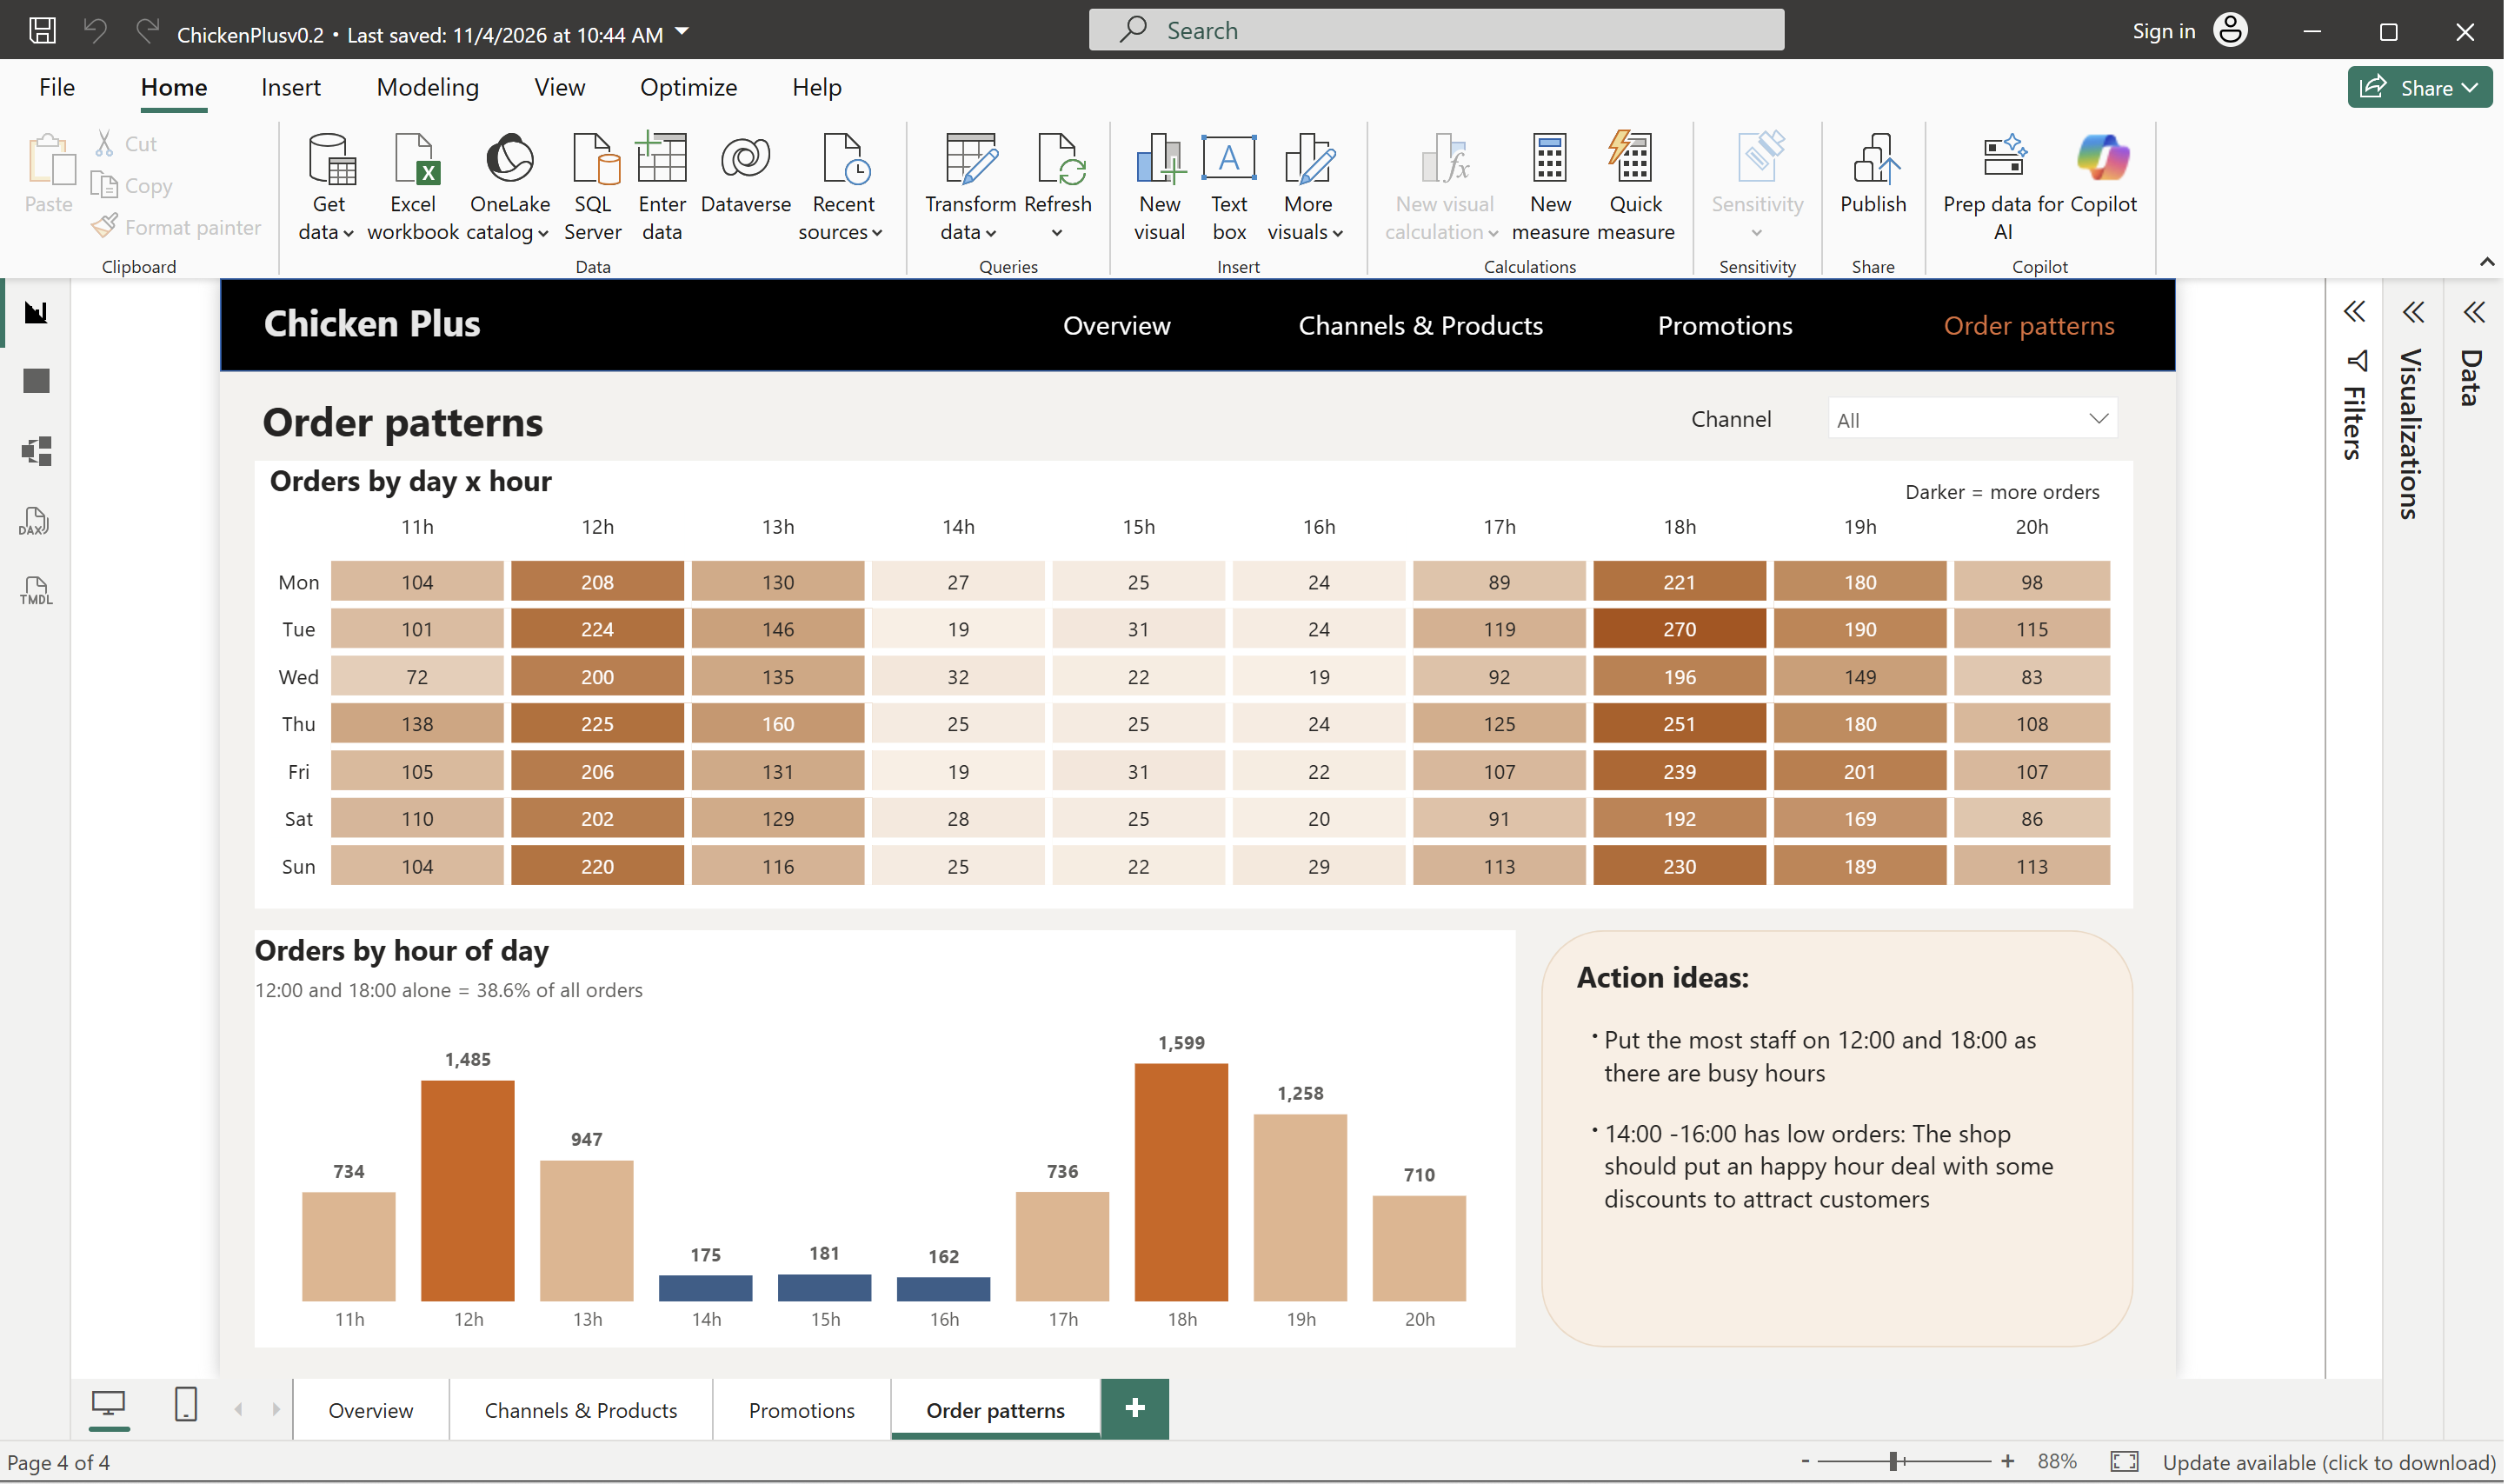

The dashboard page shown, as its layout file describes it:
{"tool":"powerbi","page":{"name":"Order patterns","canvas":[1280,720],"ordinal":3},"visuals":[{"type":"group","id":"g1","title":"Header","box":[0,0,1280,73.9],"z":0},{"type":"shape","box":[0,0,1280,61.2],"z":0,"group":"g1"},{"type":"textbox","box":[23.5,6.7,199.9,67.2],"z":1000,"group":"g1"},{"type":"textbox","box":[23,68.9,324.6,50.5],"z":1000},{"type":"pageNavigator","box":[493,6,787,49],"z":2000,"group":"g1"},{"type":"slicer","fields":{"Values":["orders.CHANNEL"]},"box":[1041.6,67.6,210.4,43.3],"z":2000},{"type":"textbox","box":[957.5,76.5,93.1,34.4],"z":3000},{"type":"pivotTable","title":"Orders by day x hour","fields":{"Rows":["date.Weekday"],"Columns":["orders.Hour Label"],"Values":["_Measure.Orders"]},"box":[22.9,119.8,1229,293.2],"z":4000},{"type":"textbox","box":[1097.8,125,182.2,45.9],"z":5000},{"type":"clusteredColumnChart","title":"Orders by hour of day","fields":{"Category":["orders.Hour Label"],"Y":["_Measure.Orders"]},"box":[22.9,427.1,824.9,272.8],"z":6000},{"type":"shape","box":[864.4,427.1,387.6,272.8],"z":7000},{"type":"textbox","box":[882.2,438.6,345.5,247.3],"z":8000}]}

Visuals, with their boxes on the page's 1280x720 design canvas (x1, y1, x2, y2). These are canvas units, not pixel positions in the 2508x1484 screenshot, which may show the page scaled, cropped or inside an application window:
"Header" group: [0, 0, 1280, 74]
shape: [0, 0, 1280, 61]
textbox: [24, 7, 223, 74]
textbox: [23, 69, 348, 119]
pageNavigator: [493, 6, 1280, 55]
slicer - orders.CHANNEL: [1042, 68, 1252, 111]
textbox: [958, 76, 1051, 111]
"Orders by day x hour" pivotTable: [23, 120, 1252, 413]
textbox: [1098, 125, 1280, 171]
"Orders by hour of day" clusteredColumnChart: [23, 427, 848, 700]
shape: [864, 427, 1252, 700]
textbox: [882, 439, 1228, 686]
